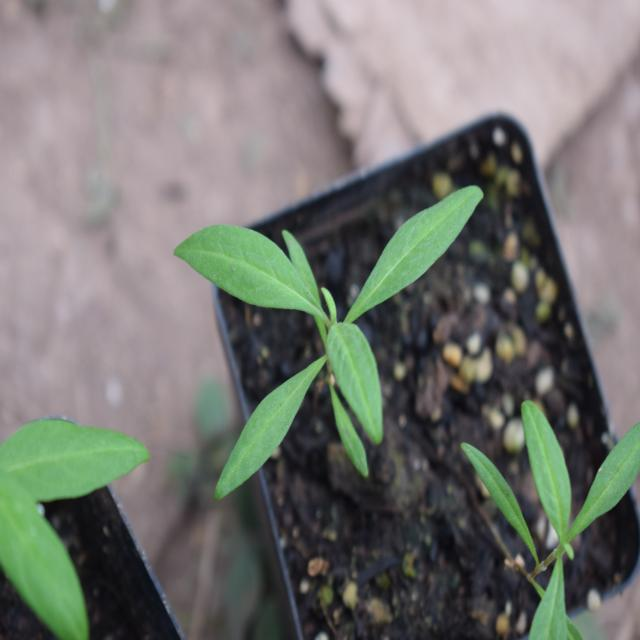white_smart_weed: (195, 119, 502, 511)
